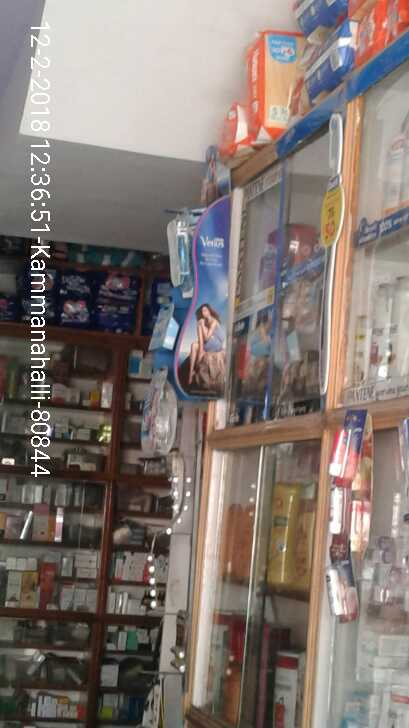reject: (190, 310, 283, 393)
